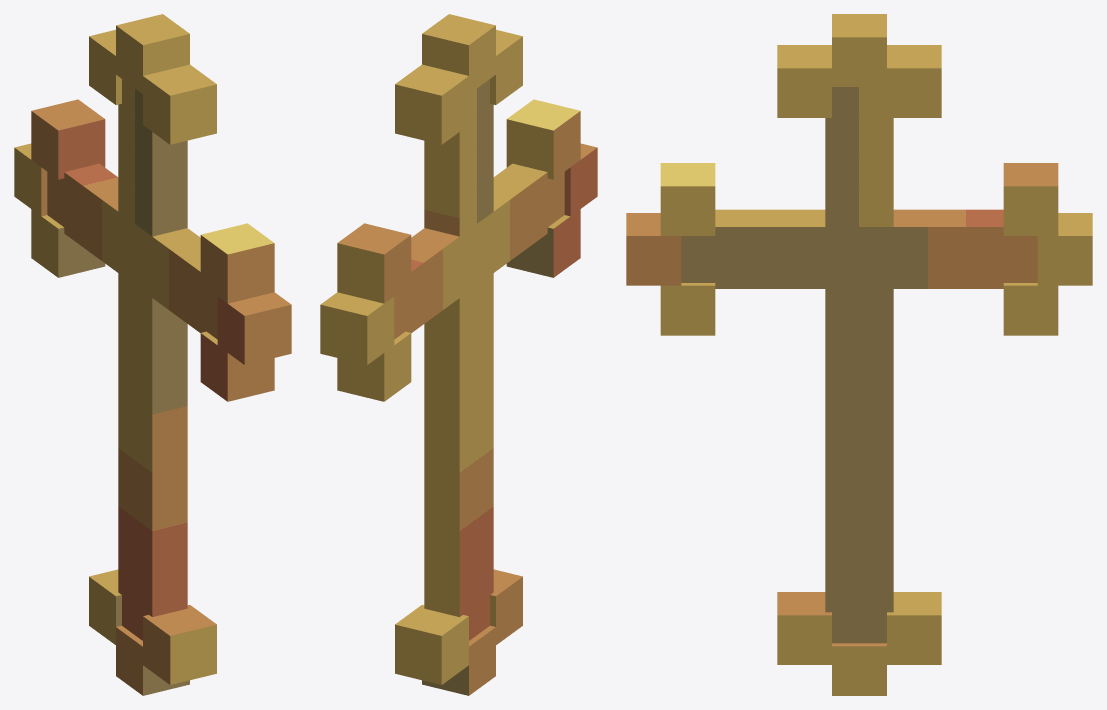
File: crucifix.fbx
3 views of the same model, side by side, from view 1: azimuth 30°, elevation 25°; view 2: azimuth 150°, elevation 25°; view 3: azimuth 270°, elevation 25° (orthographic).
Parts seen in each view (by area): view 1: cuboid, cube_6, cube_1, cube_5, cube_10, cube_8, cube_2, cube_7, cube_9, cube_3, cube_4, cube (+1 smaller); view 2: cuboid, cube_10, cube, cube_4, cube_6, cube_11, cube_2, cube_9, cube_7, cube_3, cube_5, cube_1 (+1 smaller); view 3: cuboid, cube_6, cube_10, cube, cube_1, cube_2, cube_4, cube_5, cube_8, cube_11, cube_7, cube_9 (+1 smaller).
Boxes of the visible parts, left/top/right/bottom form: cuboid: left=47, top=79, right=217, bottom=640; cube_6: left=200, top=223, right=274, bottom=303; cube_1: left=143, top=64, right=216, bottom=144; cube_5: left=143, top=605, right=216, bottom=684; cube_10: left=31, top=99, right=105, bottom=179; cube_8: left=217, top=292, right=291, bottom=364; cube_2: left=116, top=14, right=189, bottom=93; cube_7: left=200, top=331, right=274, bottom=401; cube_9: left=31, top=209, right=105, bottom=277; cube_3: left=116, top=625, right=189, bottom=695; cube_4: left=89, top=569, right=121, bottom=644; cube: left=89, top=29, right=121, bottom=104; cuboid: left=394, top=79, right=564, bottom=640; cube_10: left=337, top=223, right=411, bottom=303; cube: left=395, top=64, right=468, bottom=144; cube_4: left=395, top=605, right=468, bottom=684; cube_6: left=506, top=99, right=580, bottom=179; cube_11: left=320, top=292, right=394, bottom=364; cube_2: left=422, top=14, right=495, bottom=93; cube_9: left=337, top=331, right=411, bottom=401; cube_7: left=506, top=209, right=580, bottom=277; cube_3: left=422, top=625, right=495, bottom=695; cube_5: left=490, top=569, right=522, bottom=644; cube_1: left=490, top=29, right=522, bottom=104; cuboid: left=681, top=87, right=1037, bottom=643; cube_6: left=660, top=163, right=715, bottom=235; cube_10: left=1003, top=163, right=1058, bottom=235; cube: left=887, top=45, right=941, bottom=117; cube_1: left=777, top=45, right=831, bottom=117; cube_2: left=832, top=14, right=886, bottom=86; cube_4: left=887, top=592, right=941, bottom=664; cube_5: left=777, top=592, right=831, bottom=664; cube_8: left=626, top=213, right=681, bottom=285; cube_11: left=1037, top=213, right=1092, bottom=285; cube_7: left=660, top=283, right=715, bottom=335; cube_9: left=1003, top=283, right=1058, bottom=335.
Bounding box in the file's own units: 5 × 66.25 × 42.5.
1 material, 1 textured.
